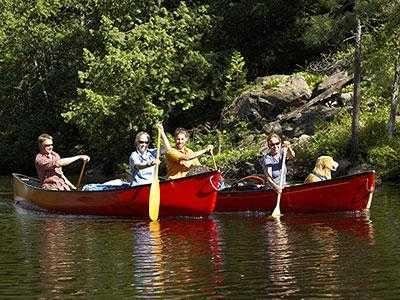kayak: (11, 171, 223, 220), (214, 171, 376, 216)
